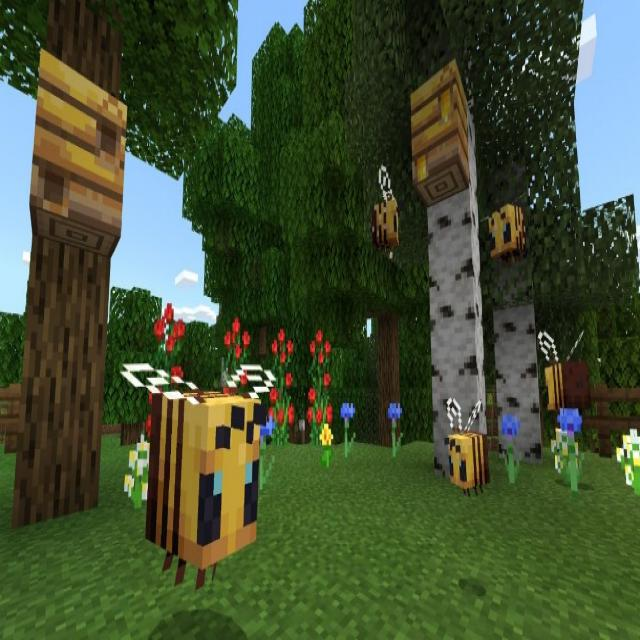Bee: (116, 334, 281, 608), (534, 323, 598, 434), (439, 388, 494, 508), (356, 152, 406, 275), (479, 196, 532, 276)
